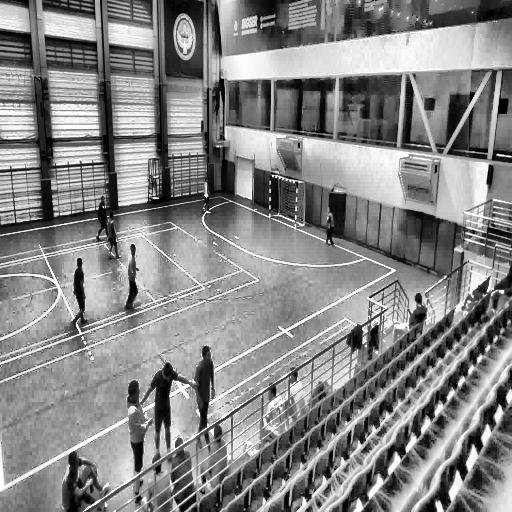ball: (326, 216, 329, 223)
player: (127, 378, 155, 495), (60, 450, 109, 511), (193, 345, 214, 450), (198, 425, 228, 491), (140, 450, 170, 512), (171, 437, 196, 503), (261, 382, 284, 437), (284, 365, 306, 421), (72, 257, 87, 331), (126, 243, 140, 314), (106, 210, 120, 261), (96, 198, 108, 240), (324, 205, 334, 248), (201, 176, 210, 216)
